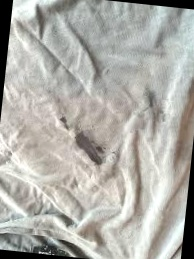oil: (51, 111, 111, 174)
